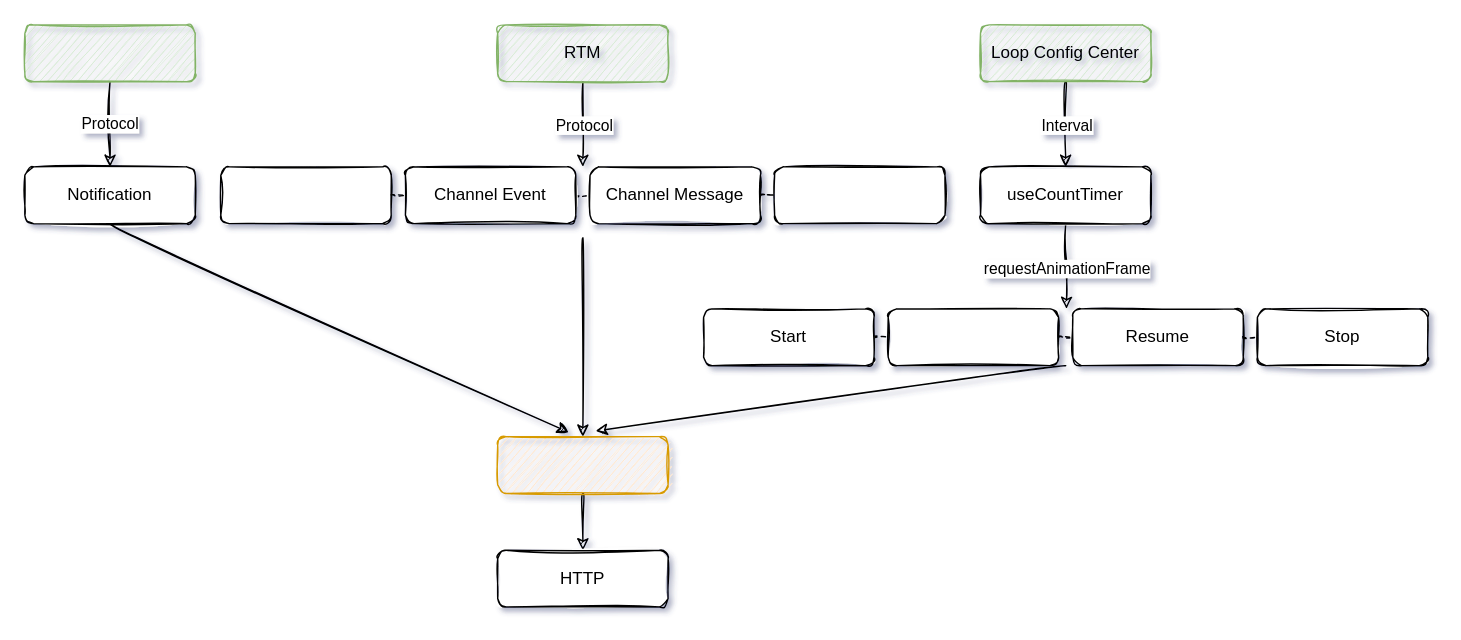
Image size: 1461x640. Some labels were removed from this diagram. Here are the shapes that lost their labels. From the top down, the centre of each, then its label:
point 109,52: stomp websocket
point 305,194: Client Event
point 859,194: Peer Message
point 973,336: Pause
point 582,464: RTK
